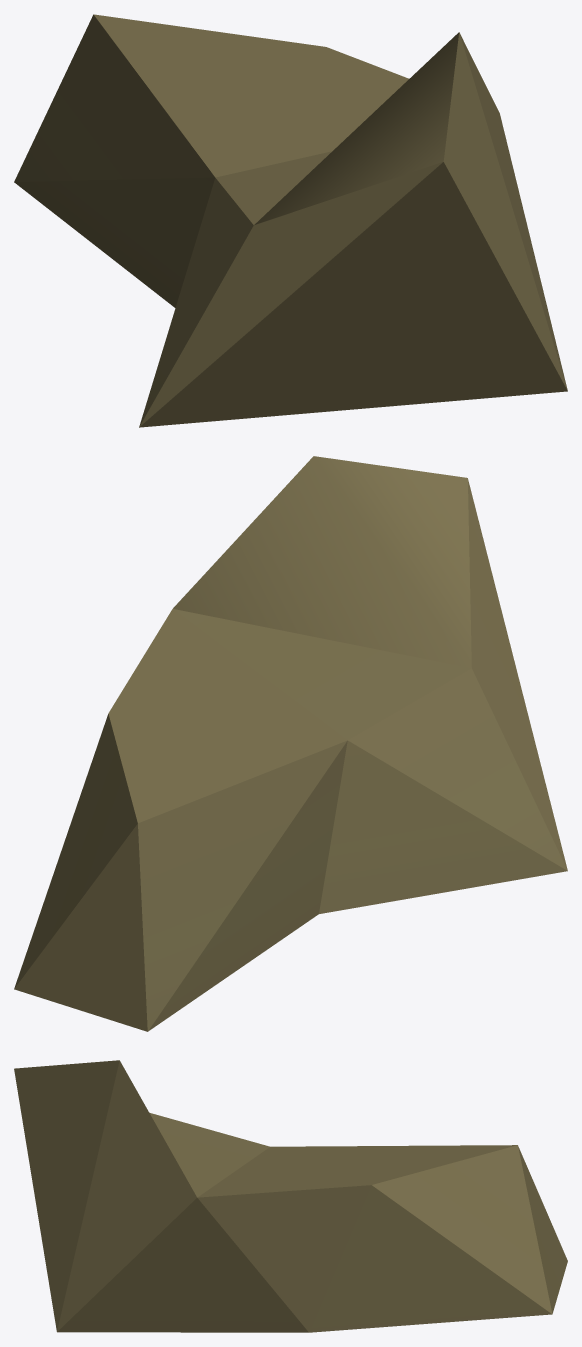
File: Rock_04.fbx
3 renders of one model, top to bottom at view 1: azimuth 30°, elevation 25°; view 2: azimuth 150°, elevation 25°; view 3: azimuth 270°, elevation 25°, orthographic. The views are drawn at different scales.
Parts seen in each view (by area): view 1: pCube14; view 2: pCube14; view 3: pCube14.
Boxes of the visible parts, x1,y1,x2,y2 form: pCube14: (14,14,567,427); pCube14: (14,456,567,1031); pCube14: (14,1060,567,1332).
Bounding box in the file's own units: 2.6 × 2.21 × 4.45.
1 material, 1 textured.
